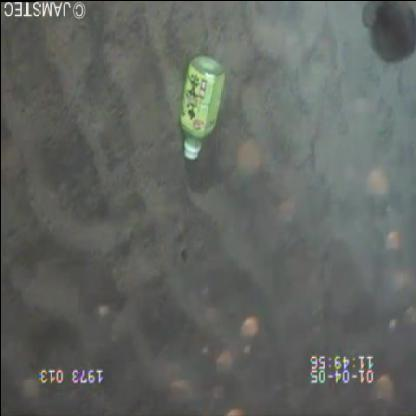Rác: (170, 40, 230, 168)
